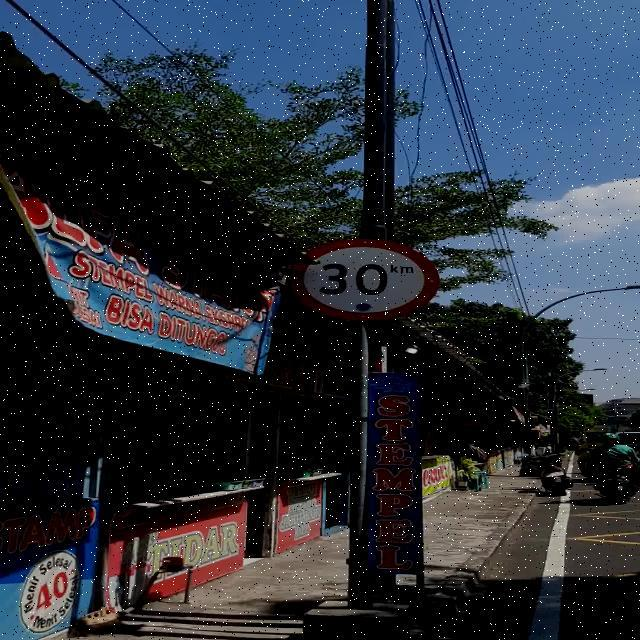Kecepatan Maks. 30 km: (288, 238, 438, 320)
